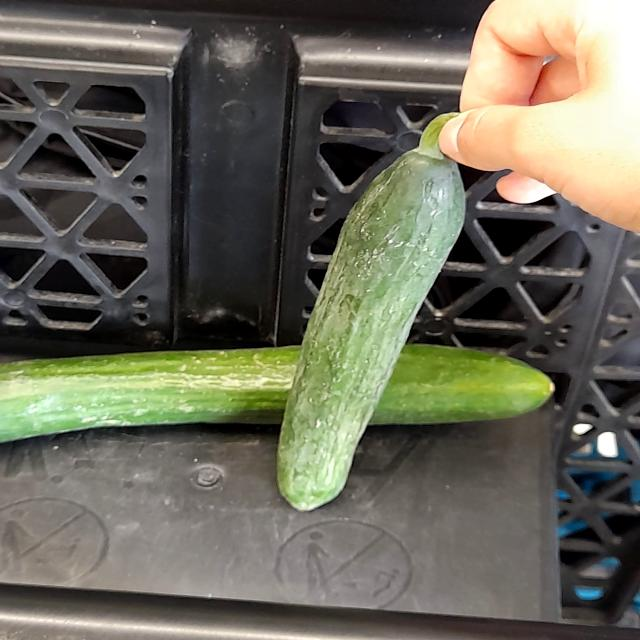cucumber: (263, 109, 505, 515)
